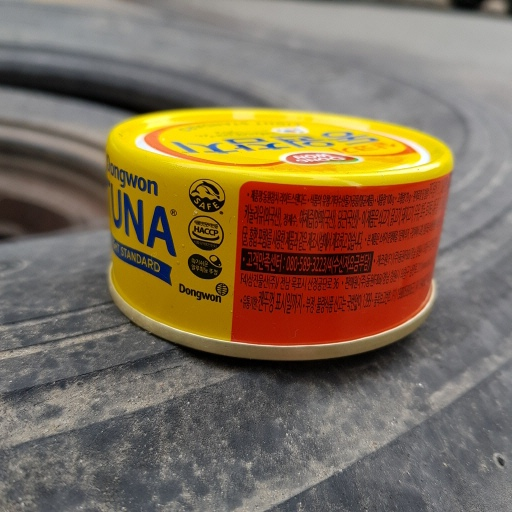Metal_1: (101, 108, 457, 361)
